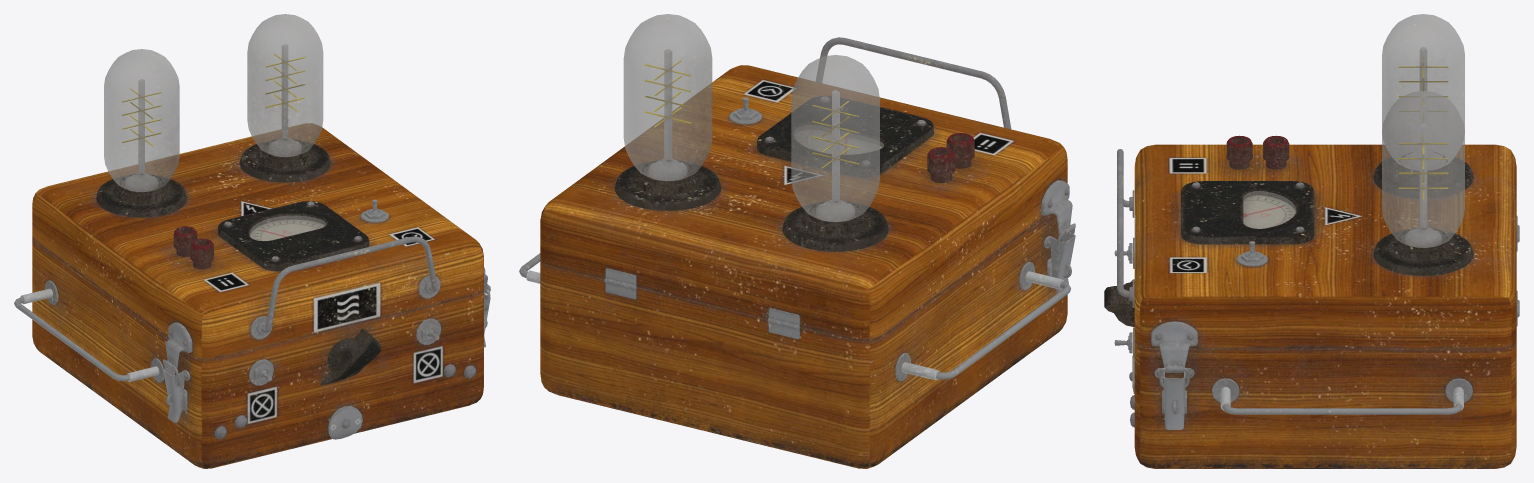
File: vacuum-tube-instruments.glb
The picture shows the model from 3 angles, left to right: view 1: azimuth 30°, elevation 25°; view 2: azimuth 150°, elevation 25°; view 3: azimuth 270°, elevation 25°; orthographic projection. The views are drawn at different scales.
Parts seen in each view (by area): view 1: Sphere001_TubeBox_0; view 2: Sphere001_TubeBox_0; view 3: Sphere001_TubeBox_0.
Part boxes in pixels (left/top/right/bottom): Sphere001_TubeBox_0: left=14, top=14, right=490, bottom=468; Sphere001_TubeBox_0: left=519, top=14, right=1075, bottom=468; Sphere001_TubeBox_0: left=1104, top=14, right=1519, bottom=468.
Bounding box in the file's own units: 0.2886 × 0.23 × 0.2538.
Materials: 1 (1 with a texture image).
